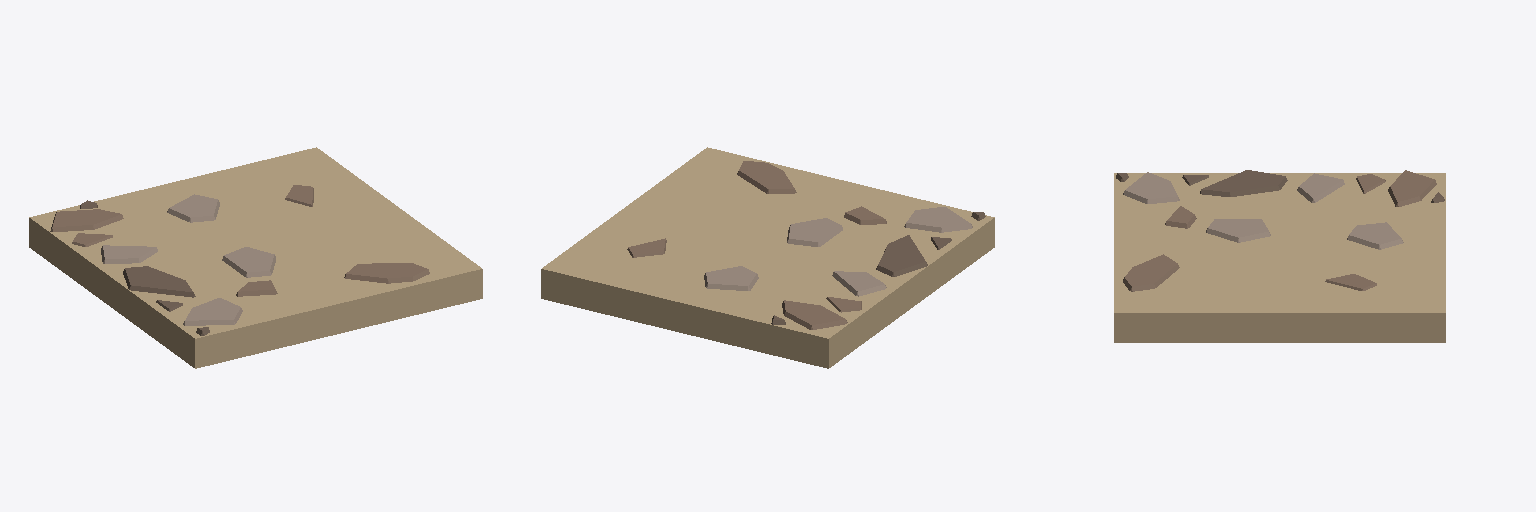
The model's file is Cobblestone_Dirt_Transition_2.obj.
The picture shows the model from 3 angles: view 1: azimuth 30°, elevation 25°; view 2: azimuth 150°, elevation 25°; view 3: azimuth 270°, elevation 25°; orthographic projection.
Parts seen in each view (by area): view 1: object1; view 2: object1; view 3: object1.
Boxes of the visible parts, <box> form: object1: <box>29,147,482,368</box>; object1: <box>541,147,994,368</box>; object1: <box>1114,170,1445,342</box>.
Bounding box in the file's own units: 2 × 0.2281 × 2.